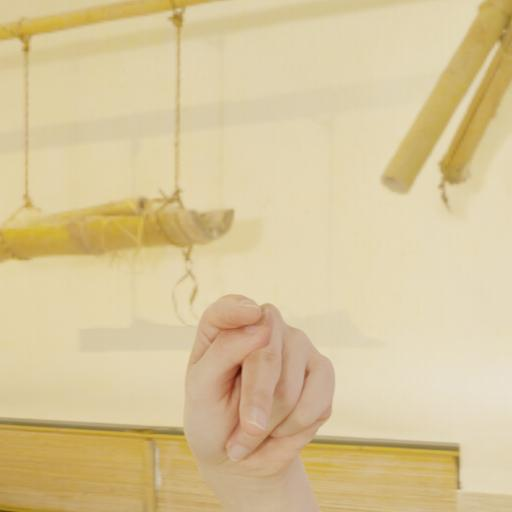P: (170, 272, 343, 492)
